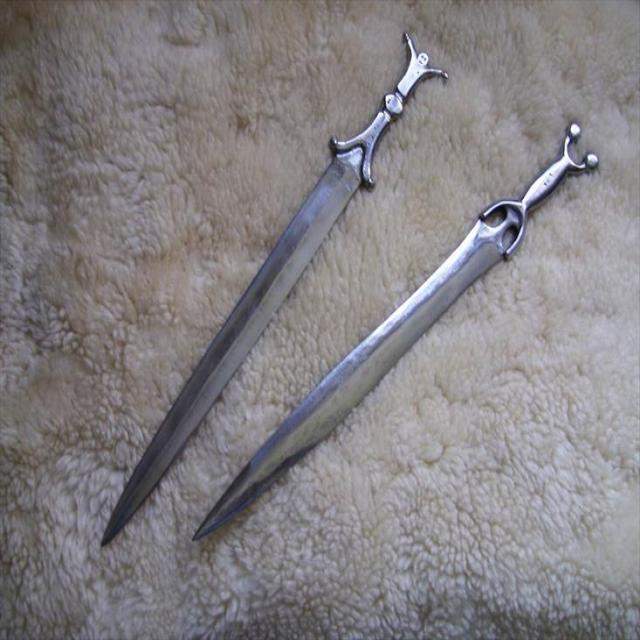short sword: (48, 25, 606, 551)
